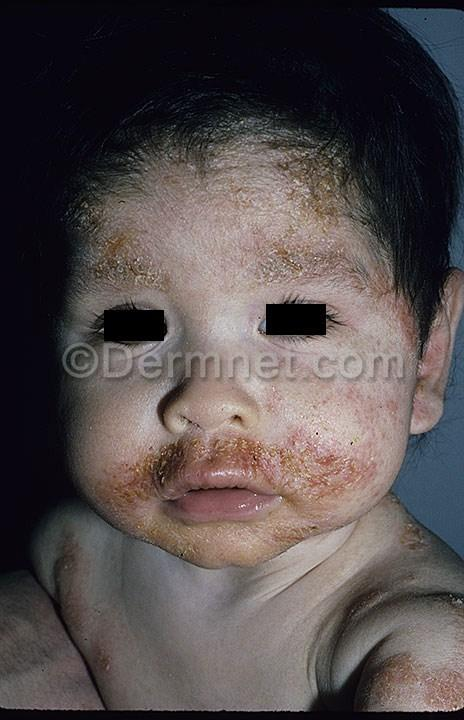eritema 1: (49, 527, 120, 680), (361, 656, 463, 719), (386, 492, 435, 553)
exudacion 1: (118, 501, 327, 558)
exudacion 2: (258, 149, 354, 263), (68, 192, 182, 266)
exudacion 3: (103, 433, 388, 509)
xerosis 1: (48, 533, 119, 686), (361, 652, 463, 715)
xerosis 2: (257, 142, 346, 292), (65, 198, 167, 296)
